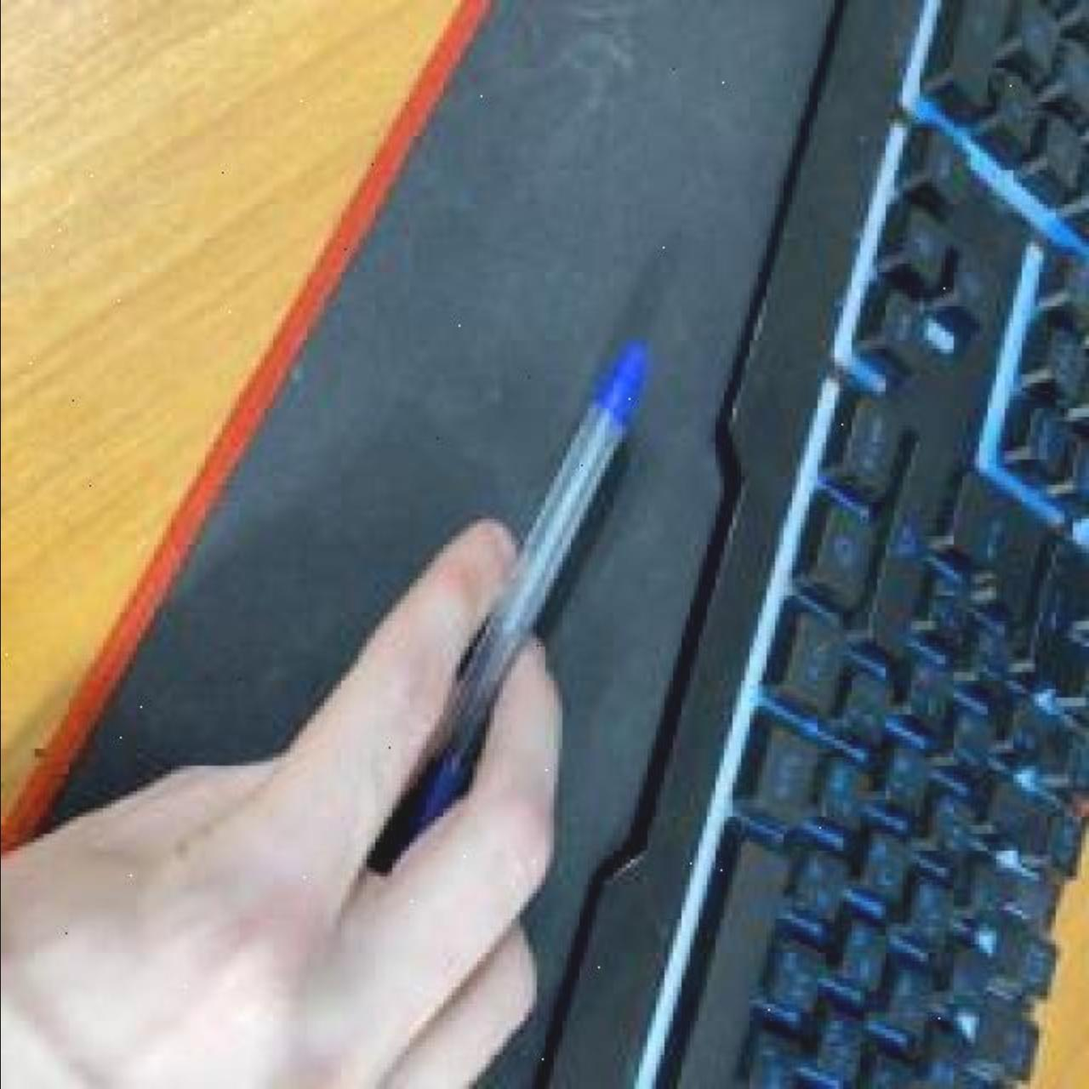pen: (400, 332, 655, 859)
